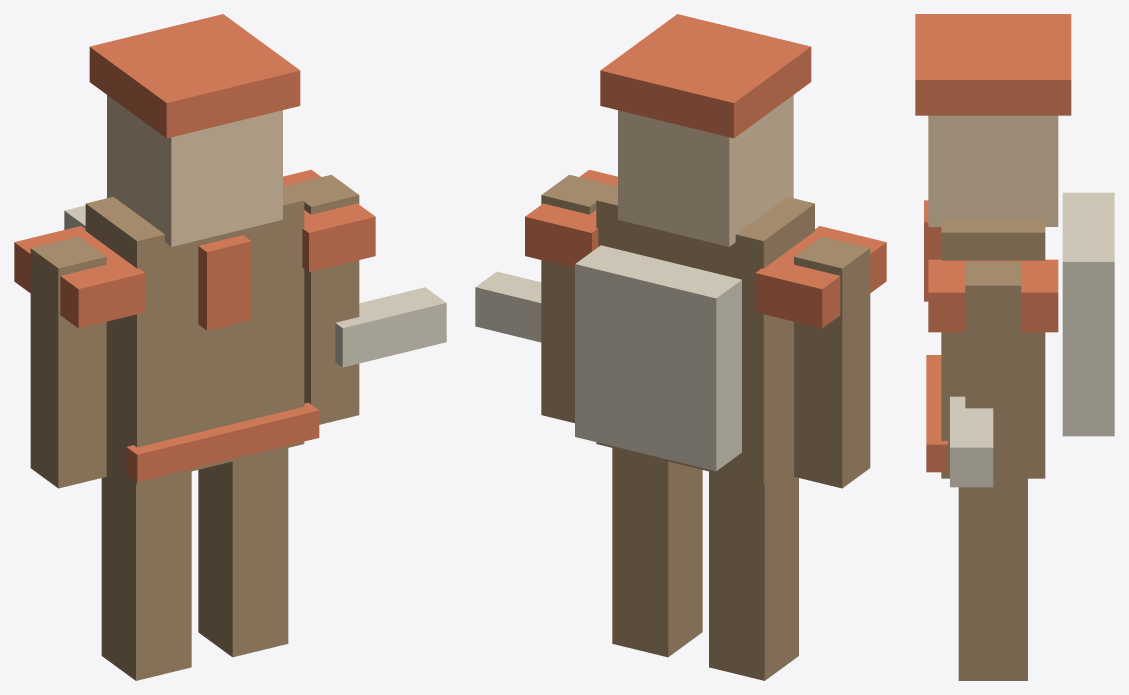
The model's file is 20_ossa_mossguard_guide_under_sonic.glb.
The picture shows the model from 3 angles, left to right: view 1: azimuth 30°, elevation 25°; view 2: azimuth 150°, elevation 25°; view 3: azimuth 270°, elevation 25°; orthographic projection.
Visible parts, largest first — view 1: Ossa Mossguard, Guide under Sonic; view 2: Ossa Mossguard, Guide under Sonic; view 3: Ossa Mossguard, Guide under Sonic.
Boxes of the visible parts, x1,y1,x2,y2 form: Ossa Mossguard, Guide under Sonic: (14, 14, 446, 680); Ossa Mossguard, Guide under Sonic: (475, 14, 886, 680); Ossa Mossguard, Guide under Sonic: (915, 14, 1114, 680).
Bounding box in the file's own units: 1.04 × 1.54 × 0.4647.
